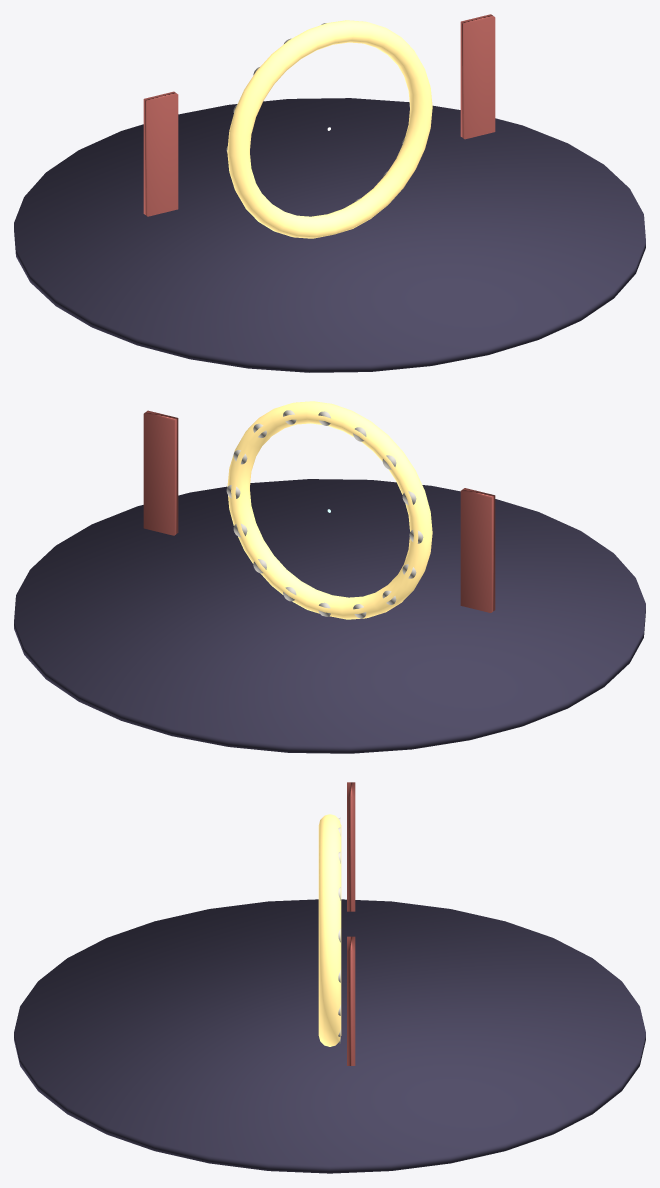
Rendered from portal.glb.
3 renders of one model, top to bottom at view 1: azimuth 30°, elevation 25°; view 2: azimuth 150°, elevation 25°; view 3: azimuth 270°, elevation 25°, orthographic.
Visible parts, largest first — view 1: suelo_pista, portal_marco, cortina_izq, cortina_der; view 2: suelo_pista, portal_marco, cortina_izq, cortina_der; view 3: suelo_pista, portal_marco, cortina_izq, cortina_der.
Part boxes in pixels (x1,y1,x2,y2): suelo_pista: (14, 98, 645, 372); portal_marco: (226, 20, 432, 238); cortina_izq: (143, 91, 178, 216); cortina_der: (460, 14, 495, 139); suelo_pista: (14, 479, 645, 753); portal_marco: (226, 401, 432, 619); cortina_izq: (460, 488, 495, 612); cortina_der: (143, 410, 178, 535); suelo_pista: (14, 899, 645, 1173); portal_marco: (318, 814, 341, 1046); cortina_izq: (347, 782, 355, 911); cortina_der: (347, 936, 355, 1065).
Size of the model in its own units: 9 by 3.38 by 9.
